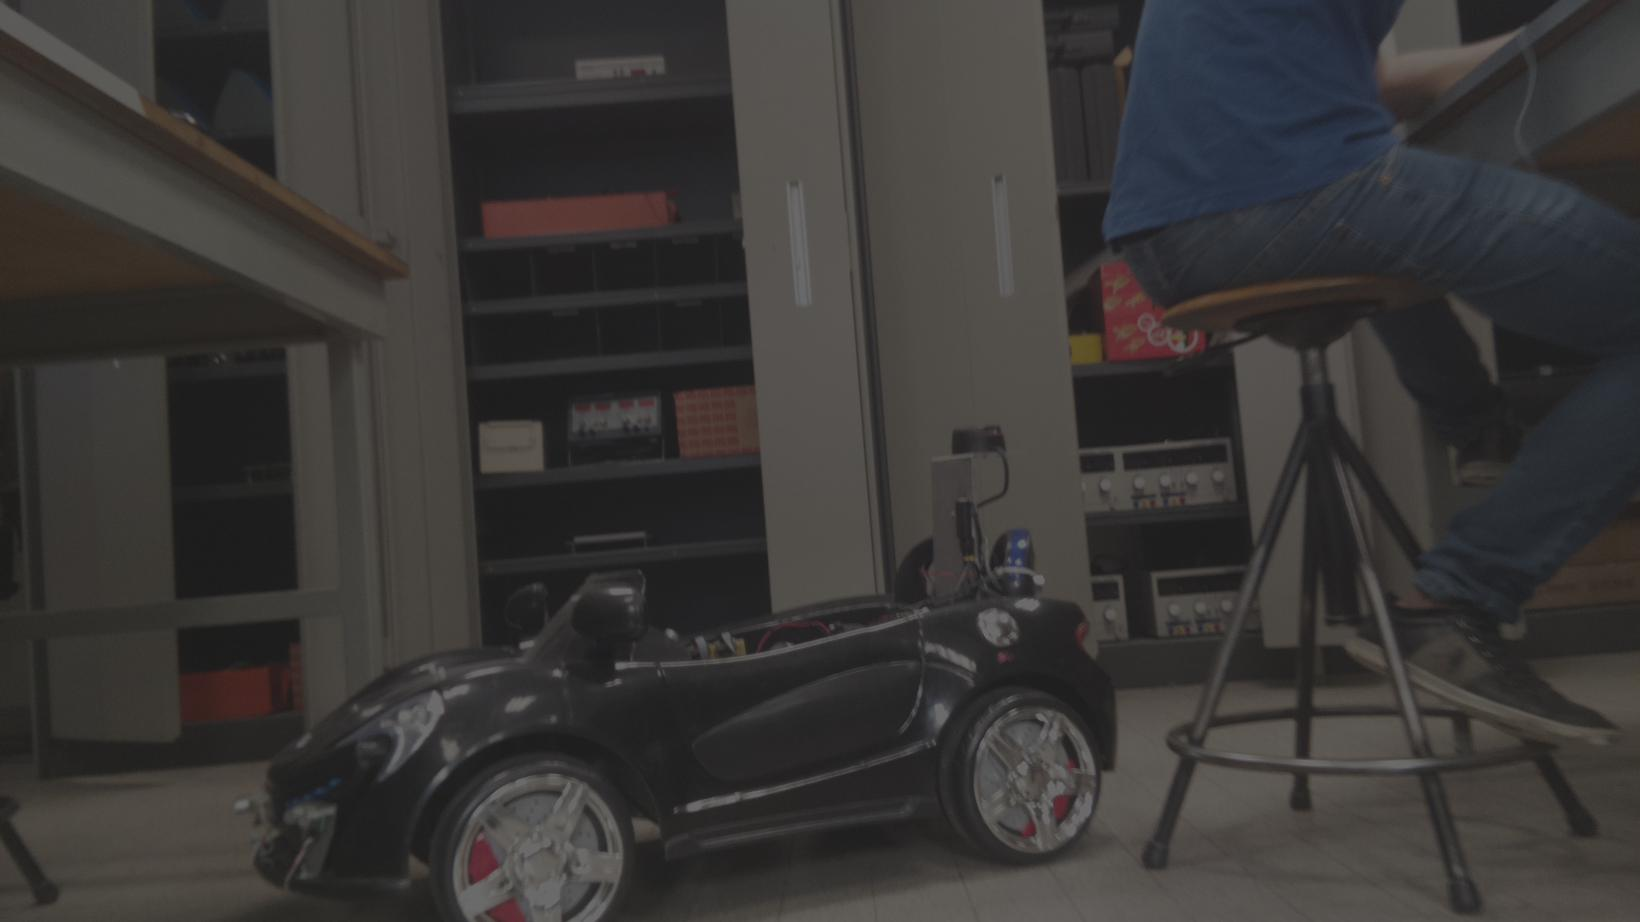big: (232, 523, 1129, 922)
